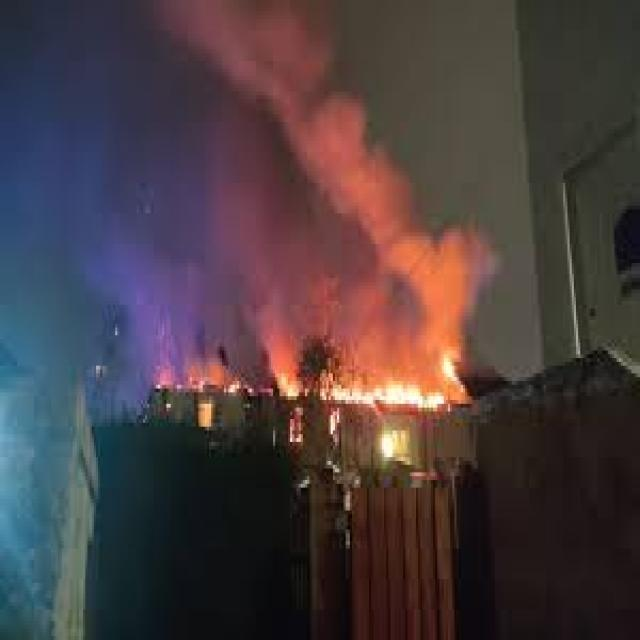Fire: (237, 346, 490, 437)
Smoke: (153, 0, 498, 347)
